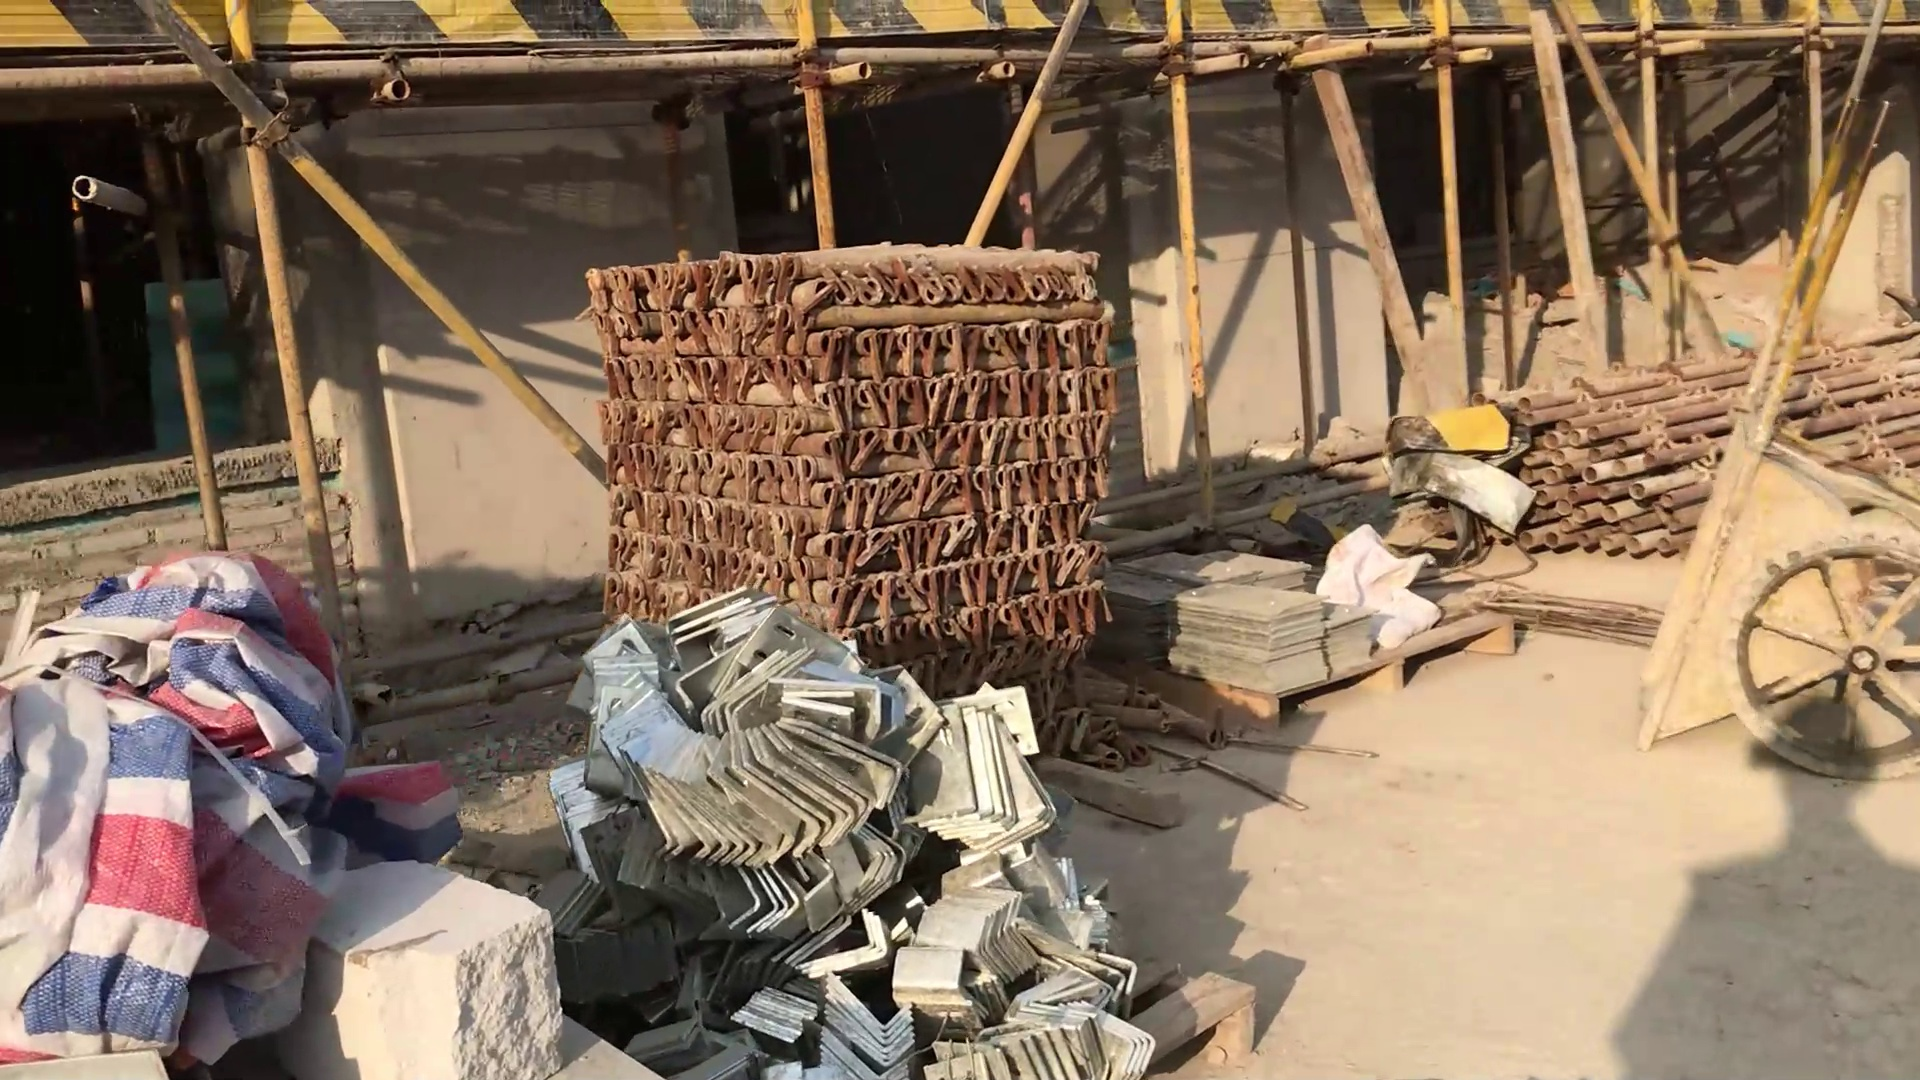handcart: (1629, 95, 1920, 783)
scaffold: (583, 237, 1114, 684), (1499, 320, 1920, 555)
